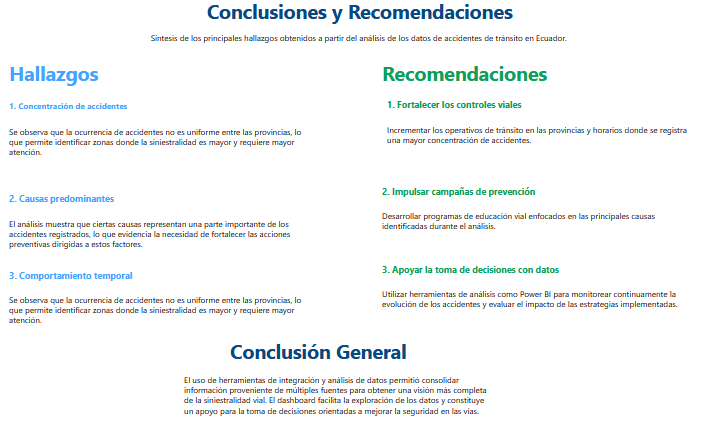

Layout of this report page (visuals, bound fields, positions):
{"tool":"powerbi","page":{"name":"Conclusiones","canvas":[1280,720],"ordinal":4},"visuals":[{"type":"textbox","box":[362,0,556,56],"z":0},{"type":"textbox","box":[60,102,204,66],"z":1000},{"type":"textbox","box":[264,56,750,46],"z":2000},{"type":"textbox","box":[60,168,252,42],"z":3000},{"type":"textbox","box":[60,210,512,86],"z":4000},{"type":"textbox","box":[60,318,252,42],"z":5000},{"type":"textbox","box":[60,444,252,42],"z":6000},{"type":"textbox","box":[60,360,512,86],"z":7000},{"type":"textbox","box":[60,486,512,86],"z":8000},{"type":"textbox","box":[672,102,310,66],"z":9000},{"type":"textbox","box":[680,164,252,42],"z":10000},{"type":"textbox","box":[680,206,512,86],"z":11000},{"type":"textbox","box":[672,306,322,34],"z":12000},{"type":"textbox","box":[672,348,512,86],"z":13000},{"type":"textbox","box":[672,434,322,42],"z":14000},{"type":"textbox","box":[672,476,512,86],"z":15000},{"type":"textbox","box":[396,558,352,58],"z":16000},{"type":"textbox","box":[348,616,512,86],"z":17000}]}

Visuals, with their boxes on the page's 1280x720 design canvas (x1, y1, x2, y2). These are canvas units, not pixel positions in the 701x423 screenshot, which may show the page scaled, cropped or inside an application window:
textbox: (x1=362, y1=0, x2=918, y2=56)
textbox: (x1=60, y1=102, x2=264, y2=168)
textbox: (x1=264, y1=56, x2=1014, y2=102)
textbox: (x1=60, y1=168, x2=312, y2=210)
textbox: (x1=60, y1=210, x2=572, y2=296)
textbox: (x1=60, y1=318, x2=312, y2=360)
textbox: (x1=60, y1=444, x2=312, y2=486)
textbox: (x1=60, y1=360, x2=572, y2=446)
textbox: (x1=60, y1=486, x2=572, y2=572)
textbox: (x1=672, y1=102, x2=982, y2=168)
textbox: (x1=680, y1=164, x2=932, y2=206)
textbox: (x1=680, y1=206, x2=1192, y2=292)
textbox: (x1=672, y1=306, x2=994, y2=340)
textbox: (x1=672, y1=348, x2=1184, y2=434)
textbox: (x1=672, y1=434, x2=994, y2=476)
textbox: (x1=672, y1=476, x2=1184, y2=562)
textbox: (x1=396, y1=558, x2=748, y2=616)
textbox: (x1=348, y1=616, x2=860, y2=702)
